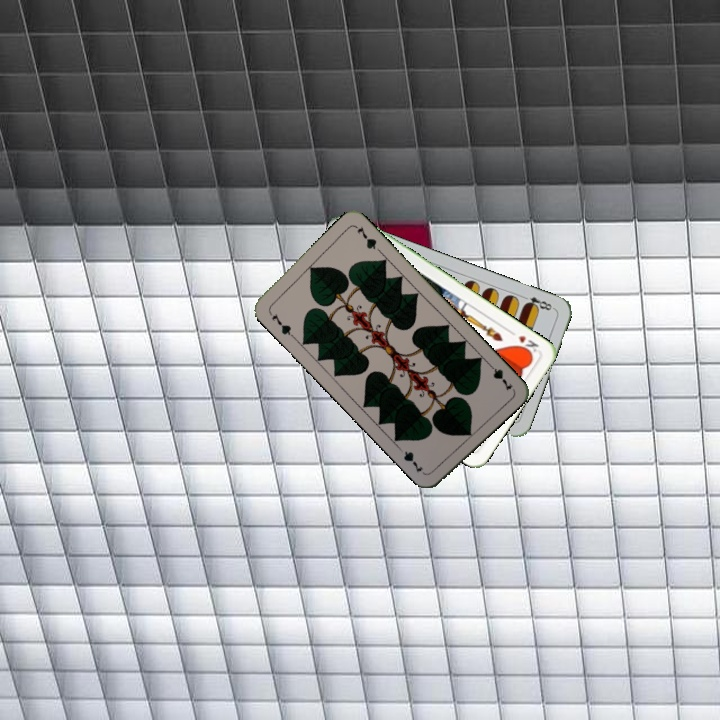E8: (518, 291, 557, 313)
G7: (483, 358, 515, 394), (265, 307, 296, 340)
HK: (513, 331, 542, 358)
